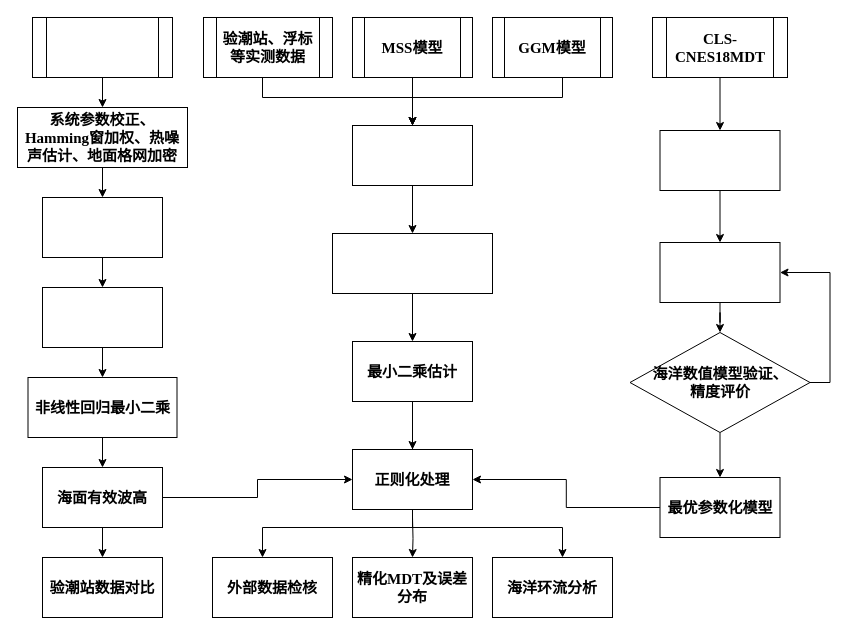
Image size: 856x635. Some labels were removed from this diagram. The centre of each missing label's shape, as x and y in pixels:
"SAR高度计L1A数据" belongs at [102,47].
"反距离加权、协方差函数构建误差模型" belongs at [412,263].
"基准统一、噪声剔除" belongs at [412,155].
"多尺度小波分解、MDT参数化" belongs at [719,272].
"多视处理" belongs at [102,227].
"波形因子方程、均方波陡调整" belongs at [102,317].
"能量谱分析" belongs at [719,160].
